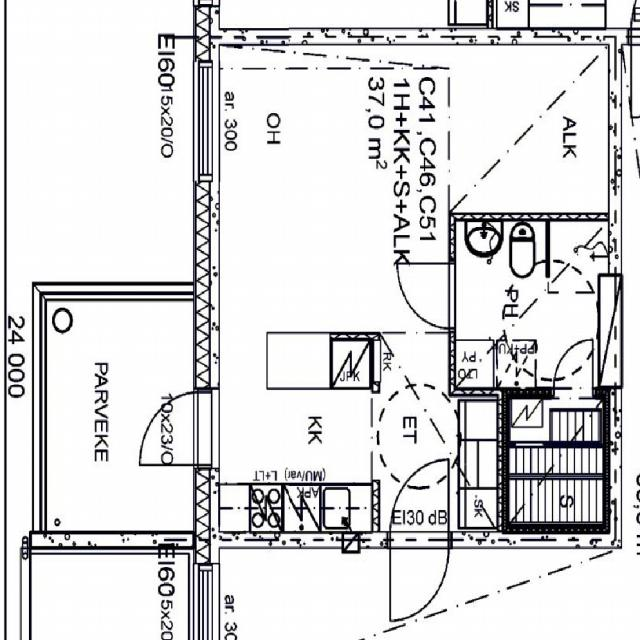door: (137, 391, 218, 464), (390, 458, 449, 548), (390, 531, 449, 621), (398, 263, 456, 326), (554, 339, 592, 399)
